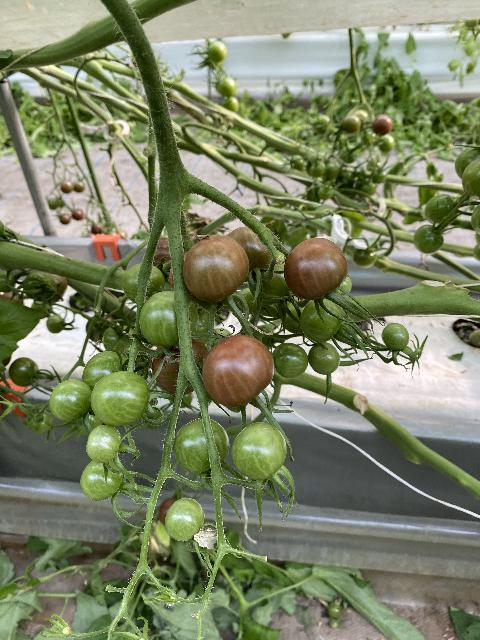l_green: (140, 290, 199, 348), (90, 371, 150, 427), (231, 422, 287, 480), (173, 418, 229, 474), (82, 351, 139, 390), (299, 296, 344, 343), (122, 262, 166, 305), (50, 379, 92, 423), (79, 460, 123, 501), (165, 497, 205, 542), (86, 425, 121, 464), (273, 343, 308, 379), (102, 324, 138, 358), (281, 297, 310, 334), (308, 342, 340, 375), (71, 406, 105, 437), (23, 271, 57, 302), (424, 193, 457, 223), (413, 225, 444, 254), (9, 358, 38, 387), (461, 158, 480, 200), (382, 322, 409, 350), (29, 409, 54, 434), (455, 154, 480, 179), (353, 250, 378, 268), (46, 315, 65, 334), (337, 276, 351, 295)
l_half_ripened: (201, 334, 275, 407), (183, 234, 249, 303), (283, 237, 348, 300), (151, 336, 209, 396), (228, 226, 273, 283), (249, 256, 290, 306)
